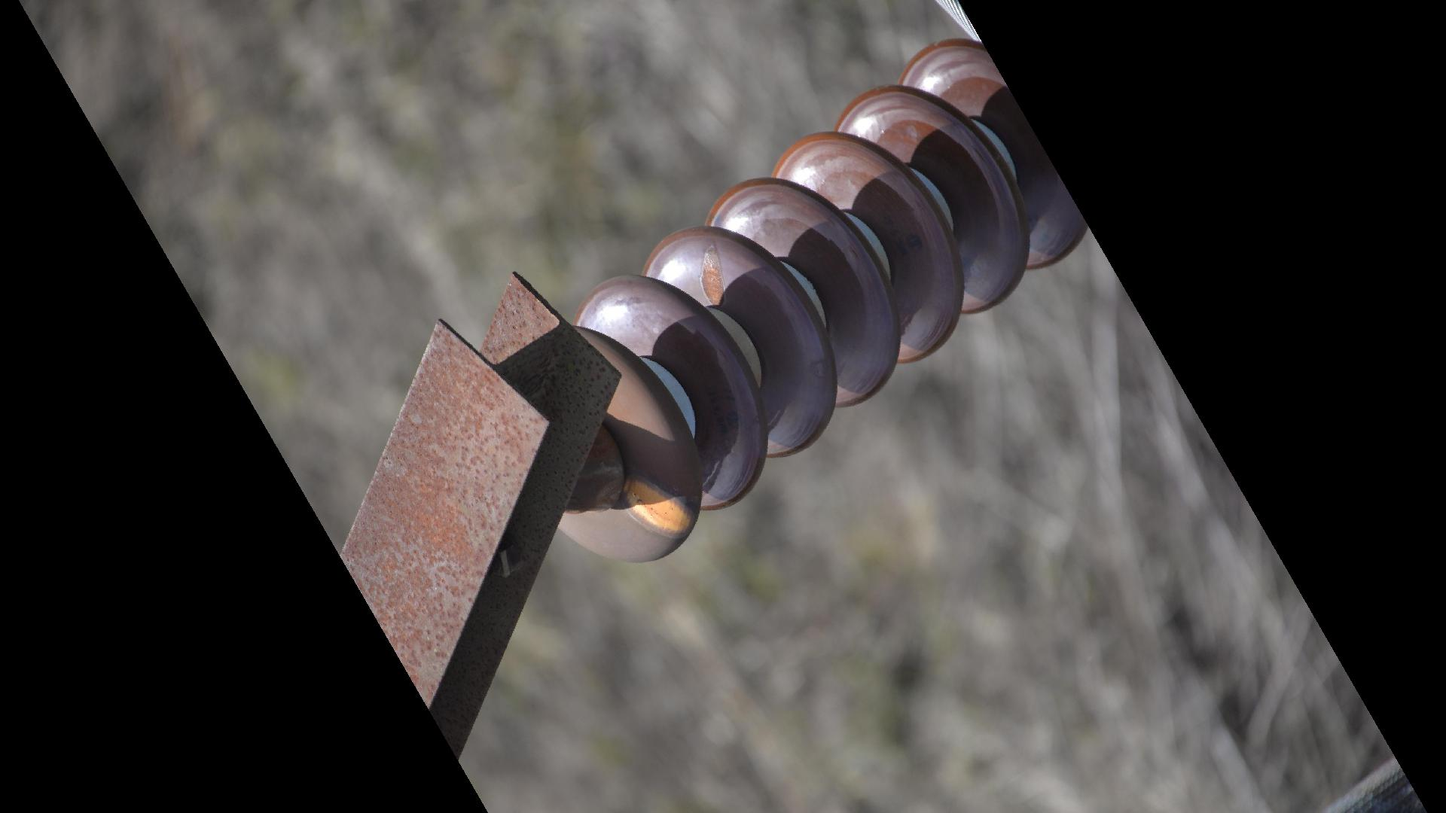insulator: (551, 32, 1097, 570)
insulator_flashover: (618, 469, 700, 544), (696, 238, 730, 312)
